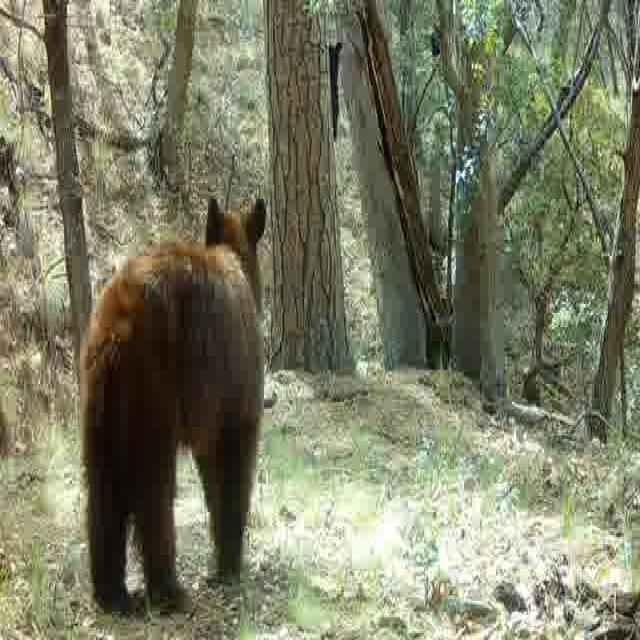bear face: (84, 197, 269, 592), (328, 40, 342, 126)
